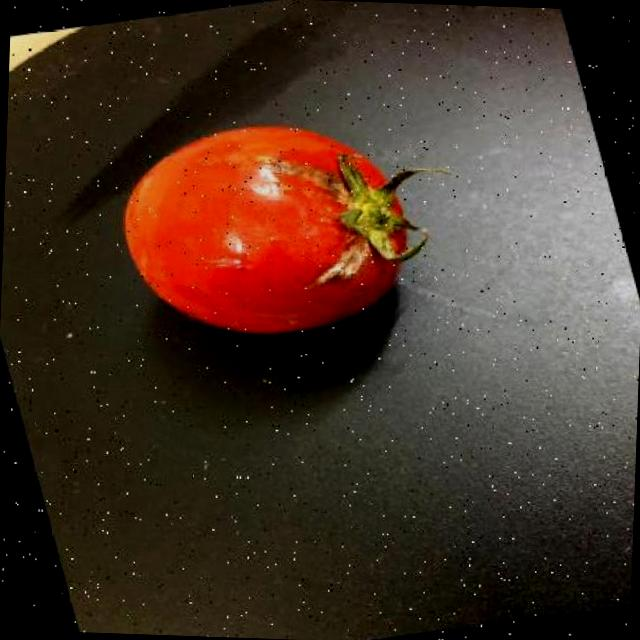tomato: (124, 129, 413, 332)
